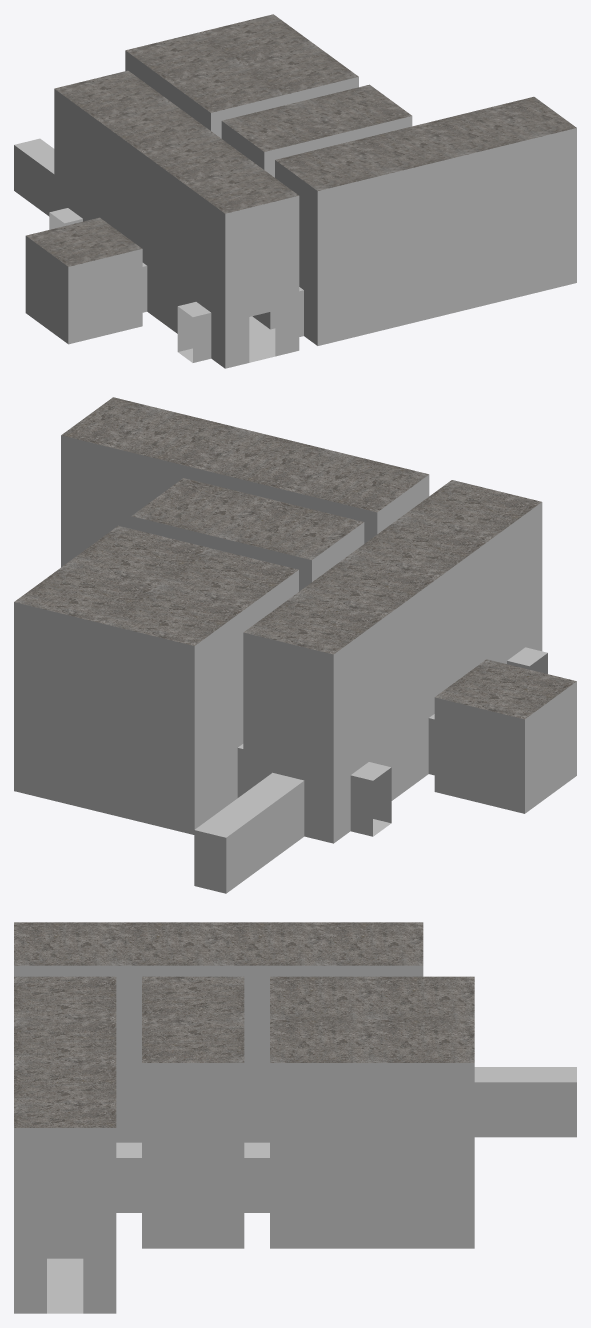
The model's file is Prison.fbx.
The picture shows the model from 3 angles, top to bottom: view 1: azimuth 30°, elevation 25°; view 2: azimuth 150°, elevation 25°; view 3: azimuth 270°, elevation 25°; orthographic projection. The views are drawn at different scales.
Visible parts, largest first — view 1: Room_2, Room_1, Room 4, Room_5, Room_3, Room_Exit; view 2: Room_1, Room 4, Room_2, Room_5, Room_3, Room_Exit; view 3: Room 4, Room_2, Room_3, Room_1, Room_Exit.
Boxes of the visible parts, bbox=[...] form: Room_2: bbox=[275, 96, 576, 345]; Room_1: bbox=[49, 70, 303, 368]; Room 4: bbox=[125, 14, 358, 138]; Room_5: bbox=[25, 217, 142, 344]; Room_3: bbox=[221, 84, 412, 177]; Room_Exit: bbox=[14, 138, 54, 216]; Room_1: bbox=[237, 480, 547, 843]; Room 4: bbox=[14, 525, 298, 834]; Room_2: bbox=[61, 397, 429, 567]; Room_5: bbox=[434, 659, 576, 813]; Room_3: bbox=[131, 478, 364, 591]; Room_Exit: bbox=[194, 772, 304, 893]; Room 4: bbox=[270, 976, 474, 1248]; Room_2: bbox=[14, 976, 116, 1313]; Room_3: bbox=[116, 976, 269, 1248]; Room_1: bbox=[14, 922, 423, 1142]; Room_Exit: bbox=[474, 1067, 576, 1137].
Bounding box in the file's own units: 24 × 8 × 22.
